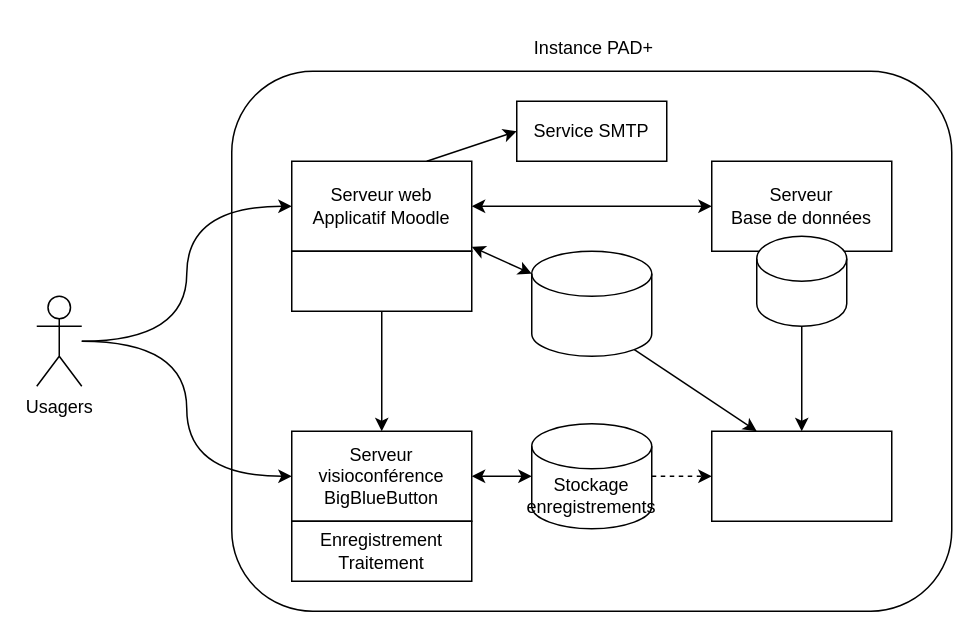
The diagram is 978 pixels wide and 638 high, and some of its shapes have lost their labels. Here are the shapes that lost their labels. From the top down, the centre of each, then its label:
At (x=381, y=280): "Cache + Sessions (Redis)".
At (x=591, y=303): "Stockage fichiers Moodle".
At (x=801, y=475): "Service backup".
